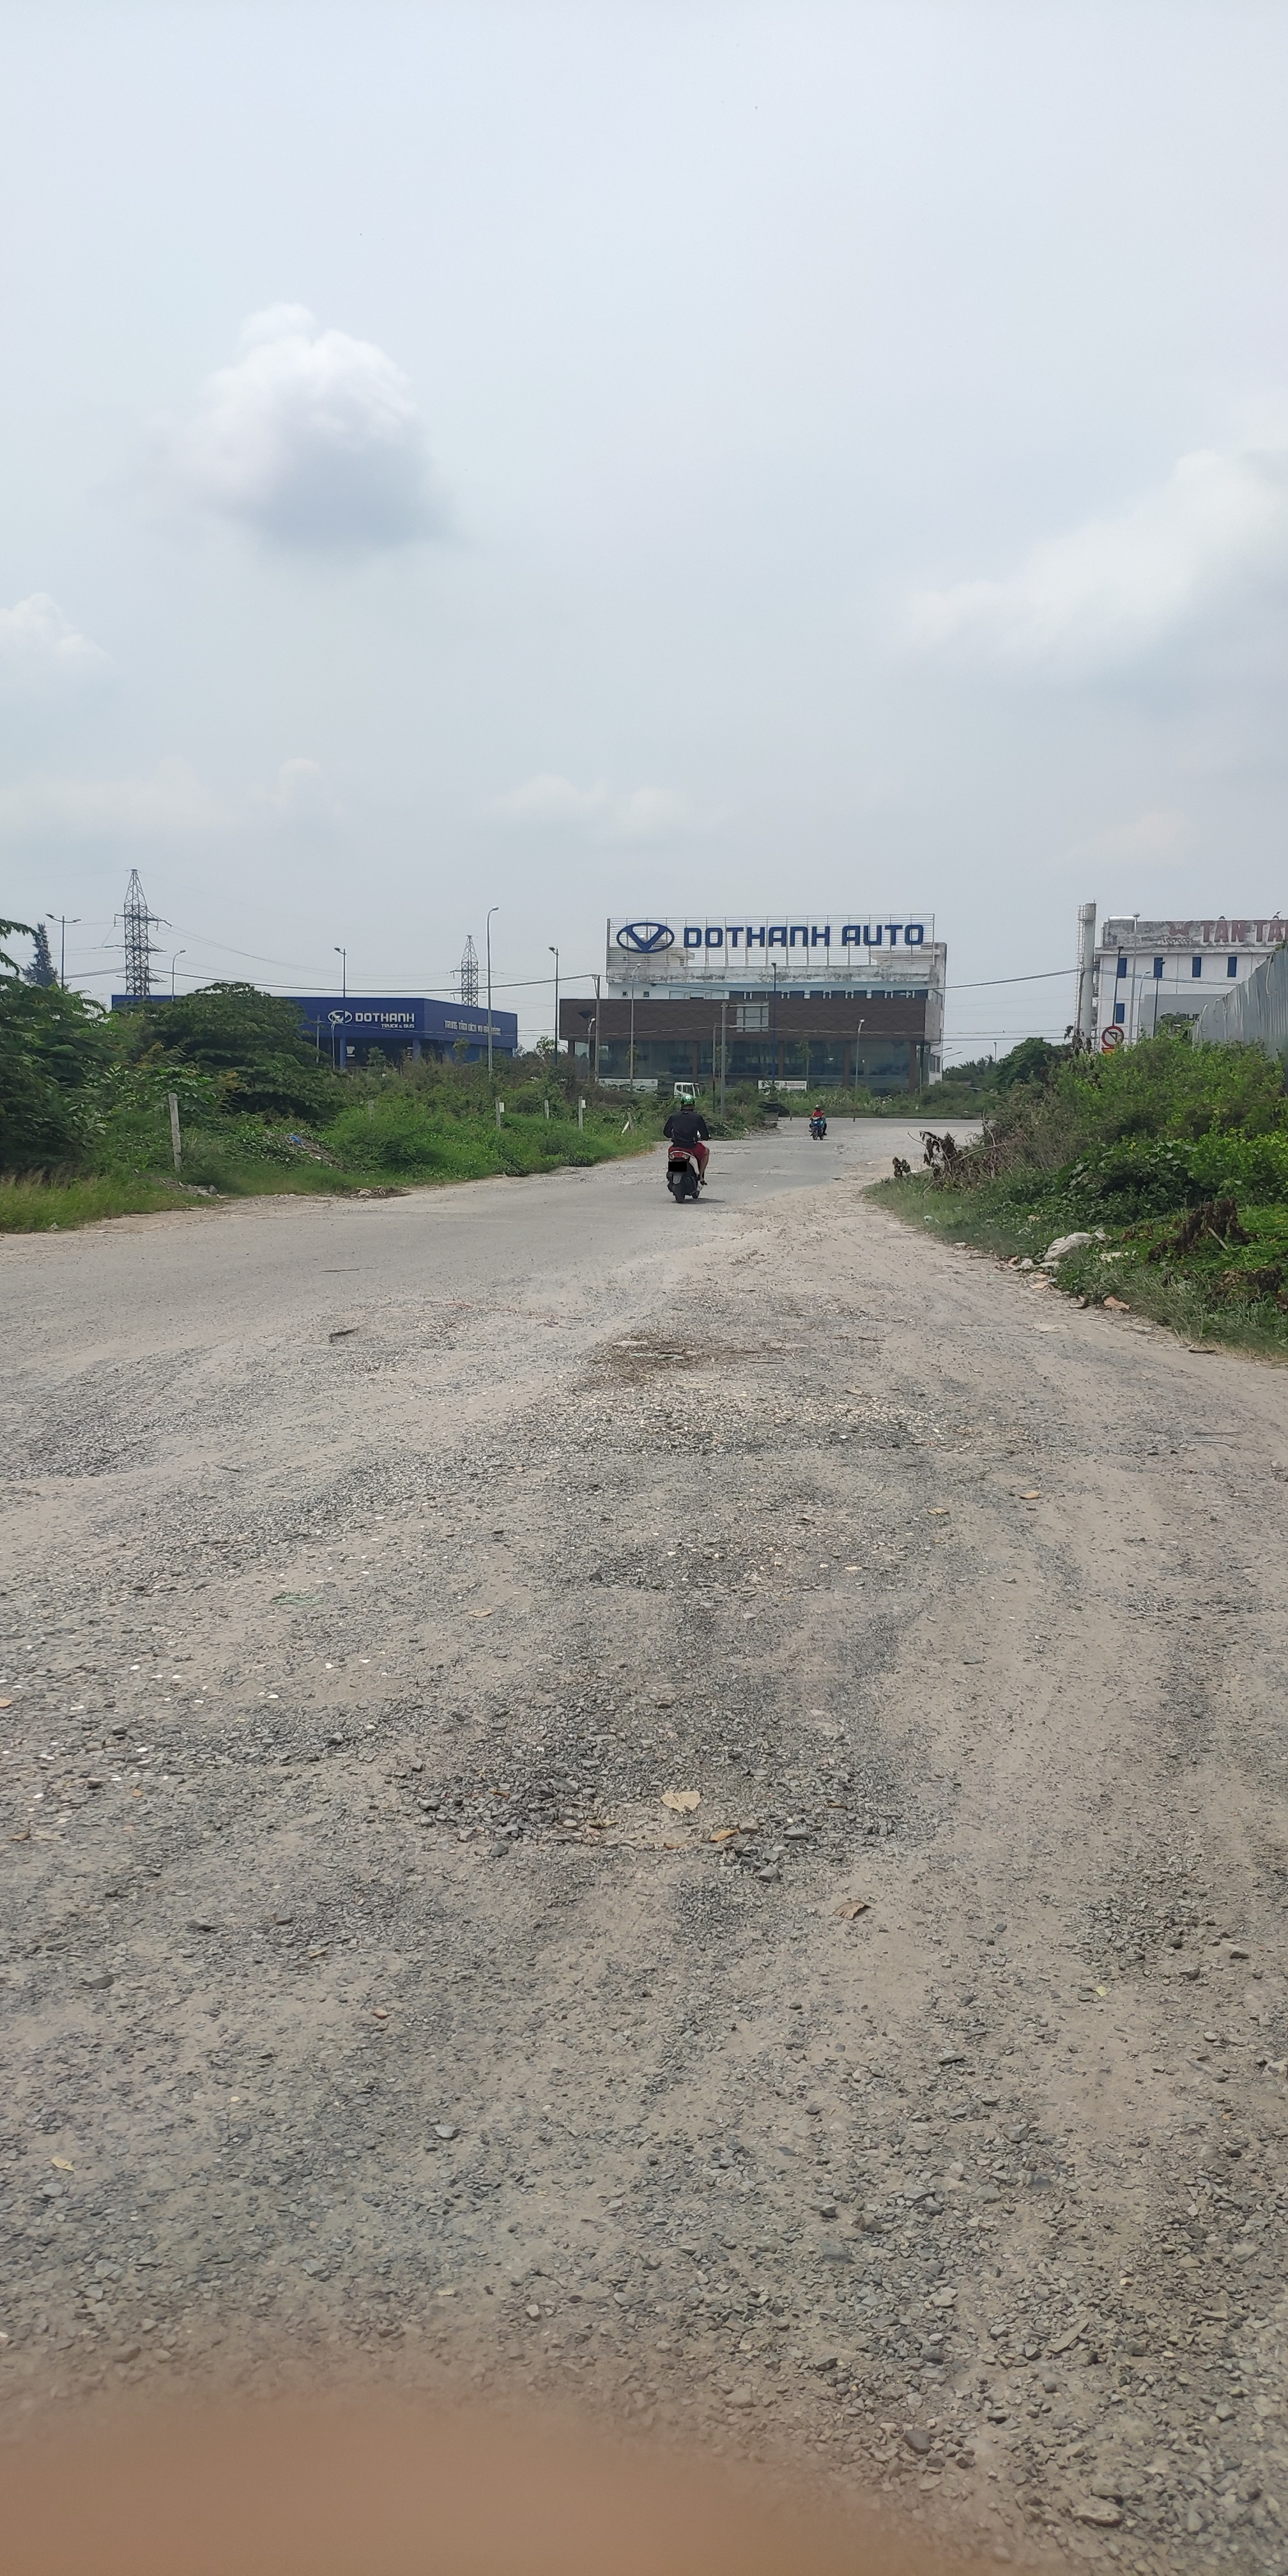hole: (434, 1699, 892, 1907), (605, 1400, 953, 1475), (598, 1533, 866, 1602), (11, 1405, 143, 1493), (325, 1311, 486, 1364), (609, 1332, 741, 1377)
